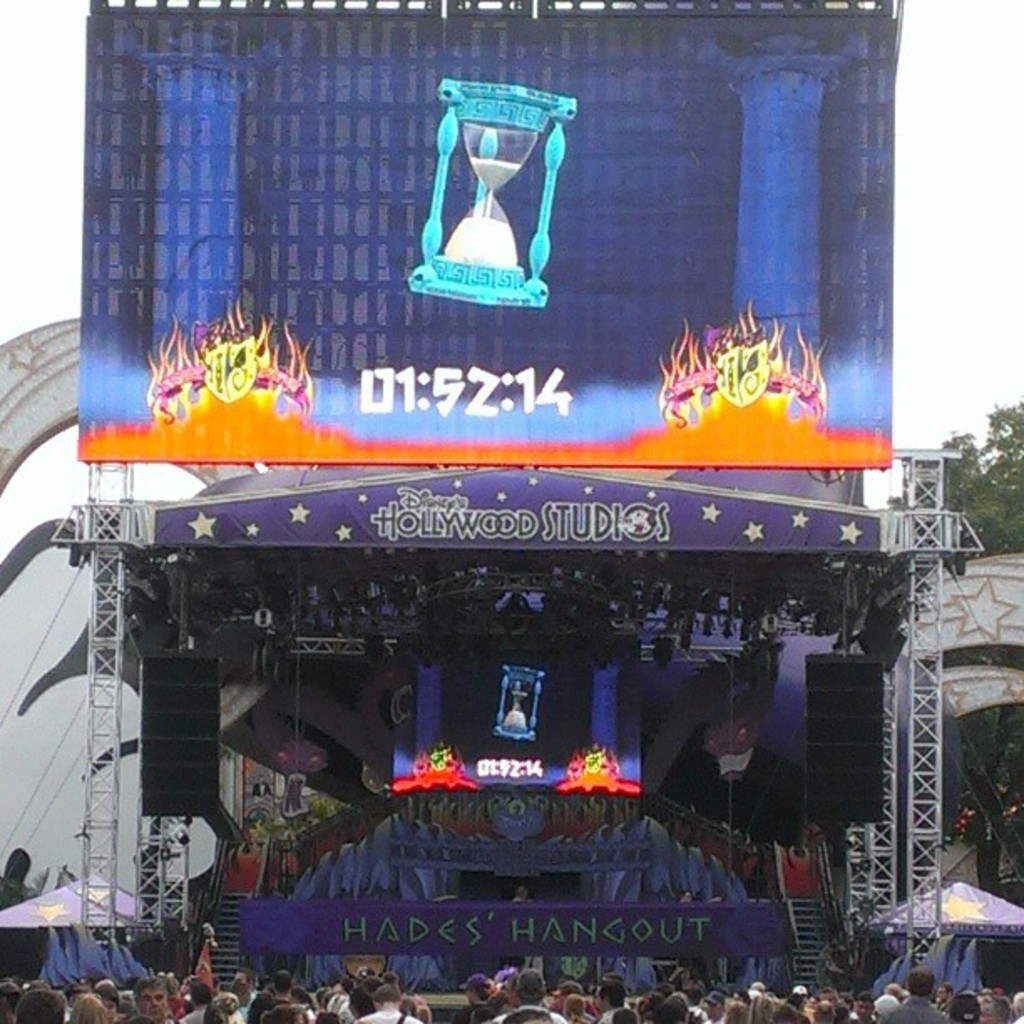face: (464, 110, 540, 192)
